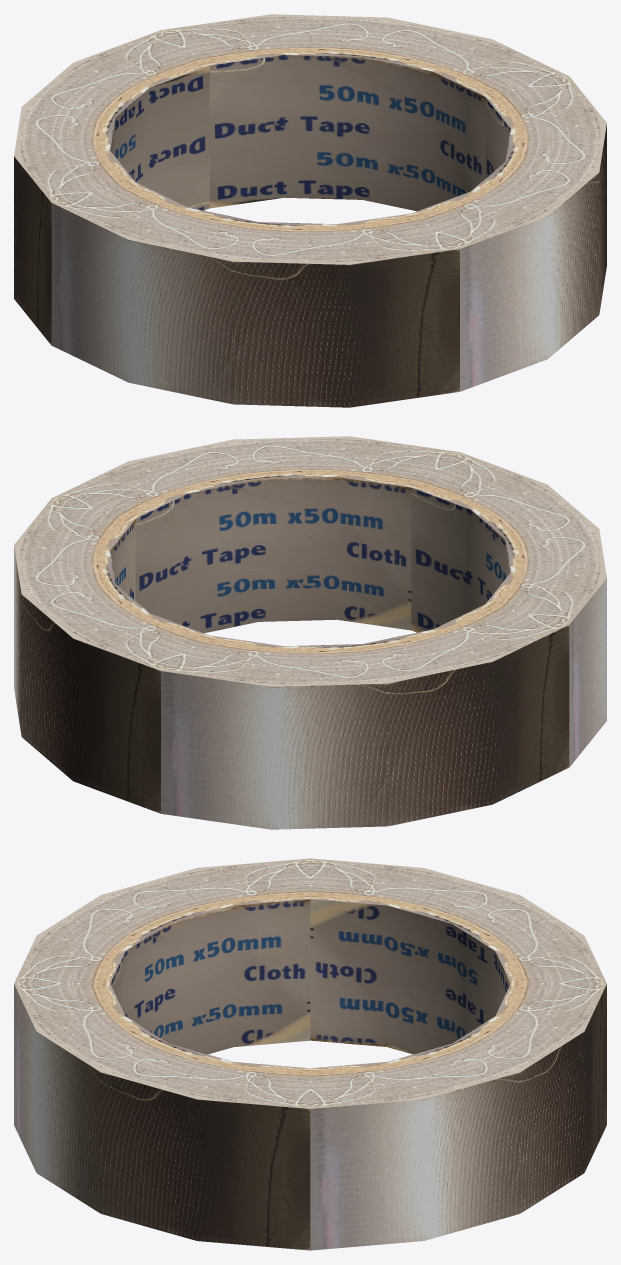
The model's file is tape_roll.fbx.
The picture shows the model from 3 angles, top to bottom: view 1: azimuth 30°, elevation 25°; view 2: azimuth 150°, elevation 25°; view 3: azimuth 270°, elevation 25°; orthographic projection.
Parts seen in each view (by area): view 1: Cylinder.002; view 2: Cylinder.002; view 3: Cylinder.002.
Part boxes in pixels (x1,y1,x2,y2): Cylinder.002: [14, 14, 606, 407]; Cylinder.002: [14, 436, 606, 829]; Cylinder.002: [14, 858, 606, 1250].
Size of the model in its own units: 30 by 7.9 by 30.
